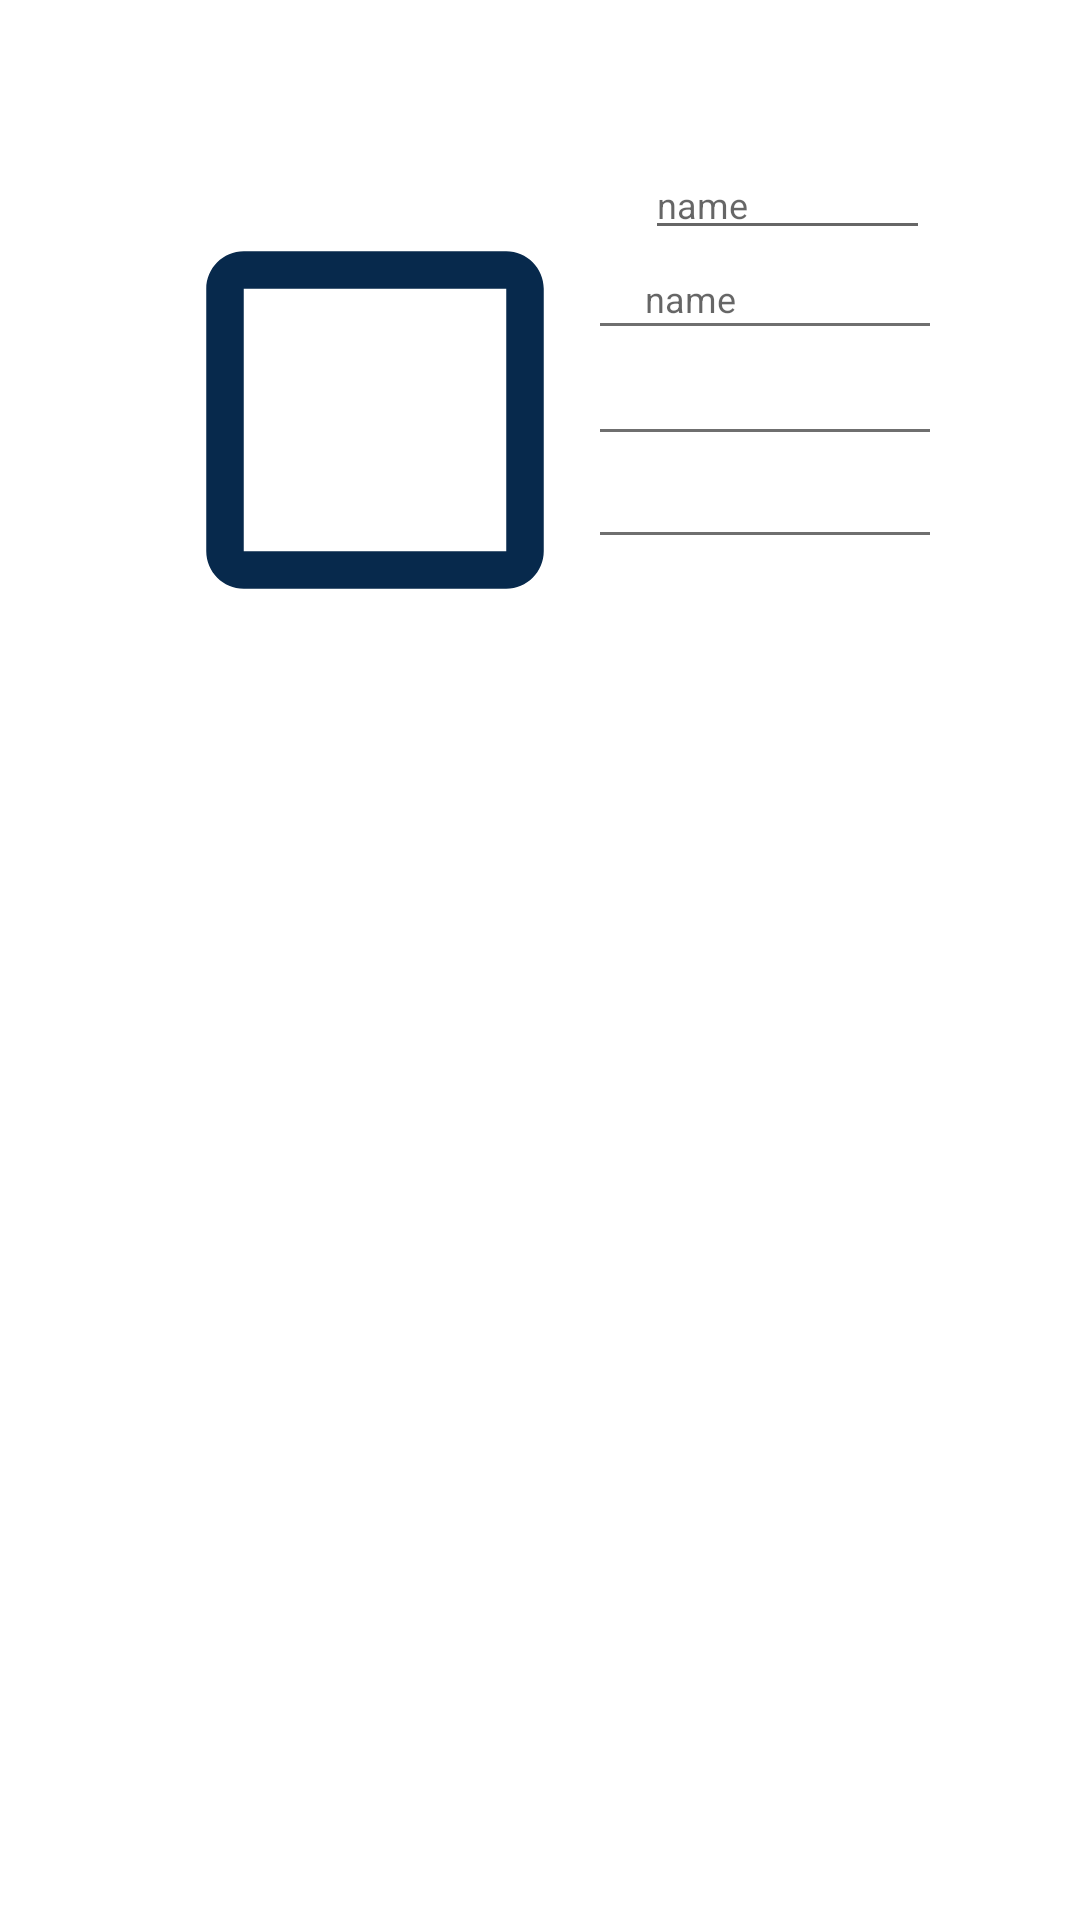

Named icons in this screenshot (1080 × 1920) and their centers, (x=x, y=y):
check box blank: (x=375, y=420)
